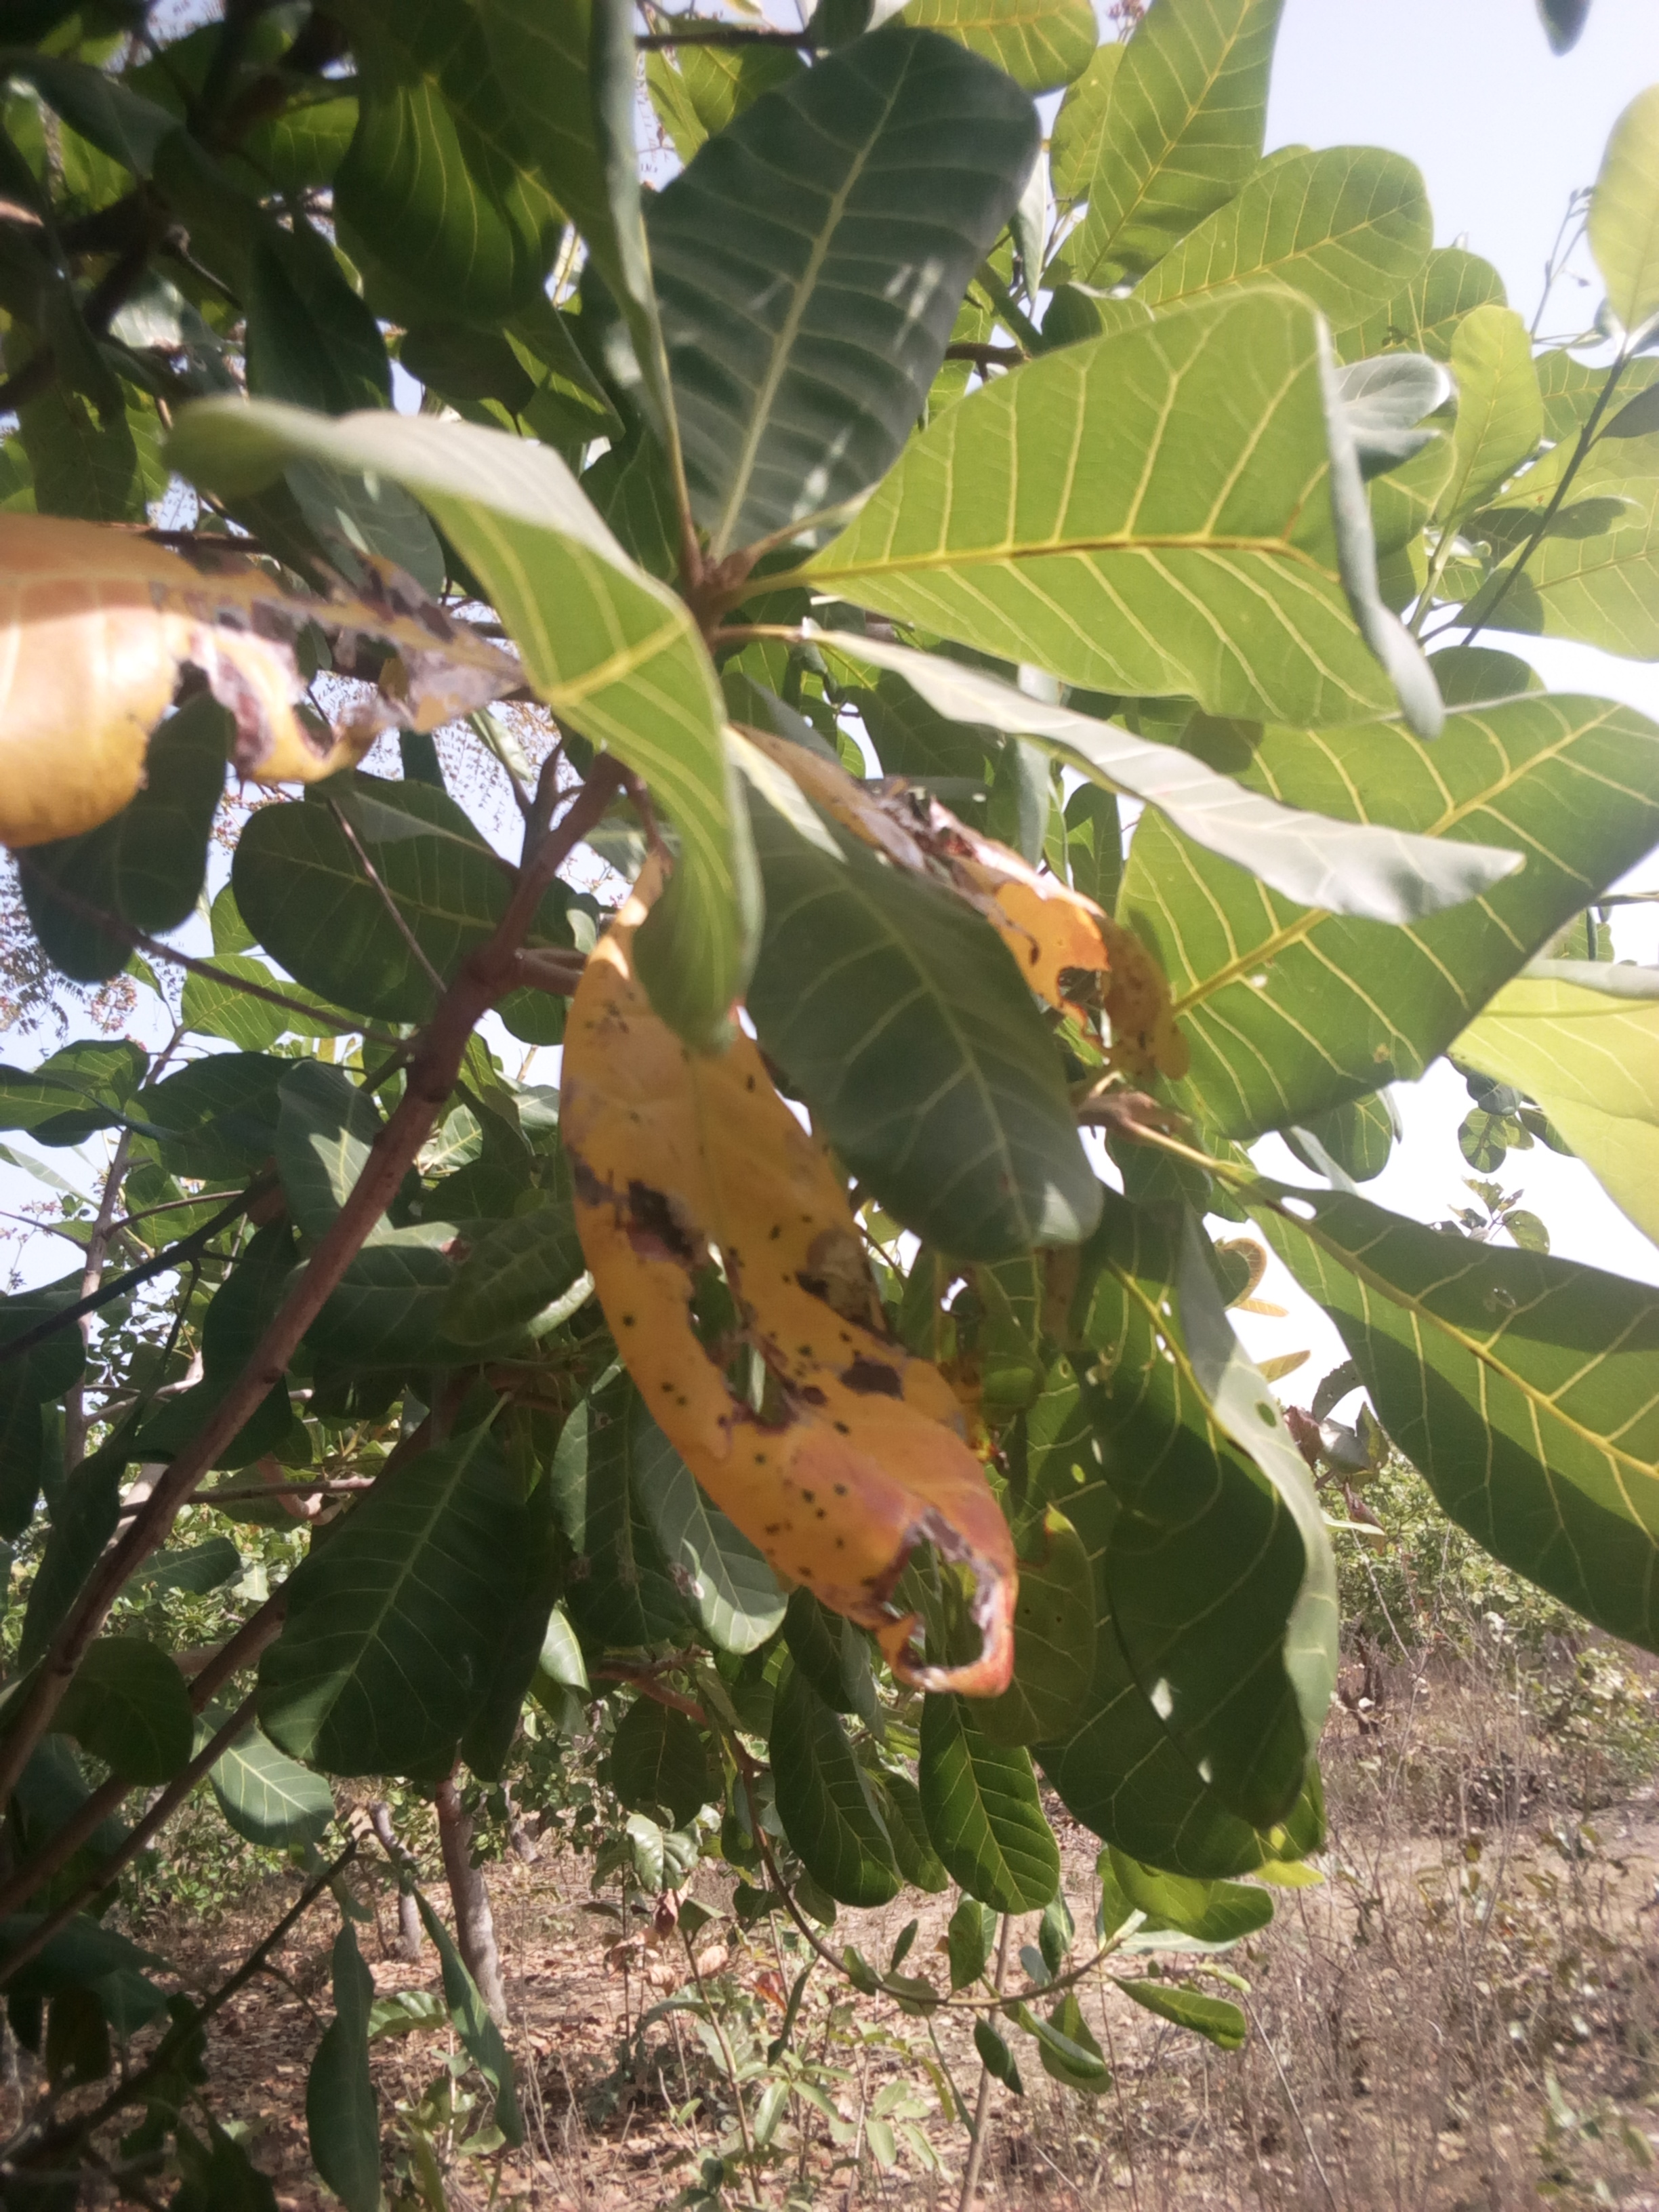Anoplonemis curvipes: (552, 899, 1073, 1719), (0, 489, 525, 960)
